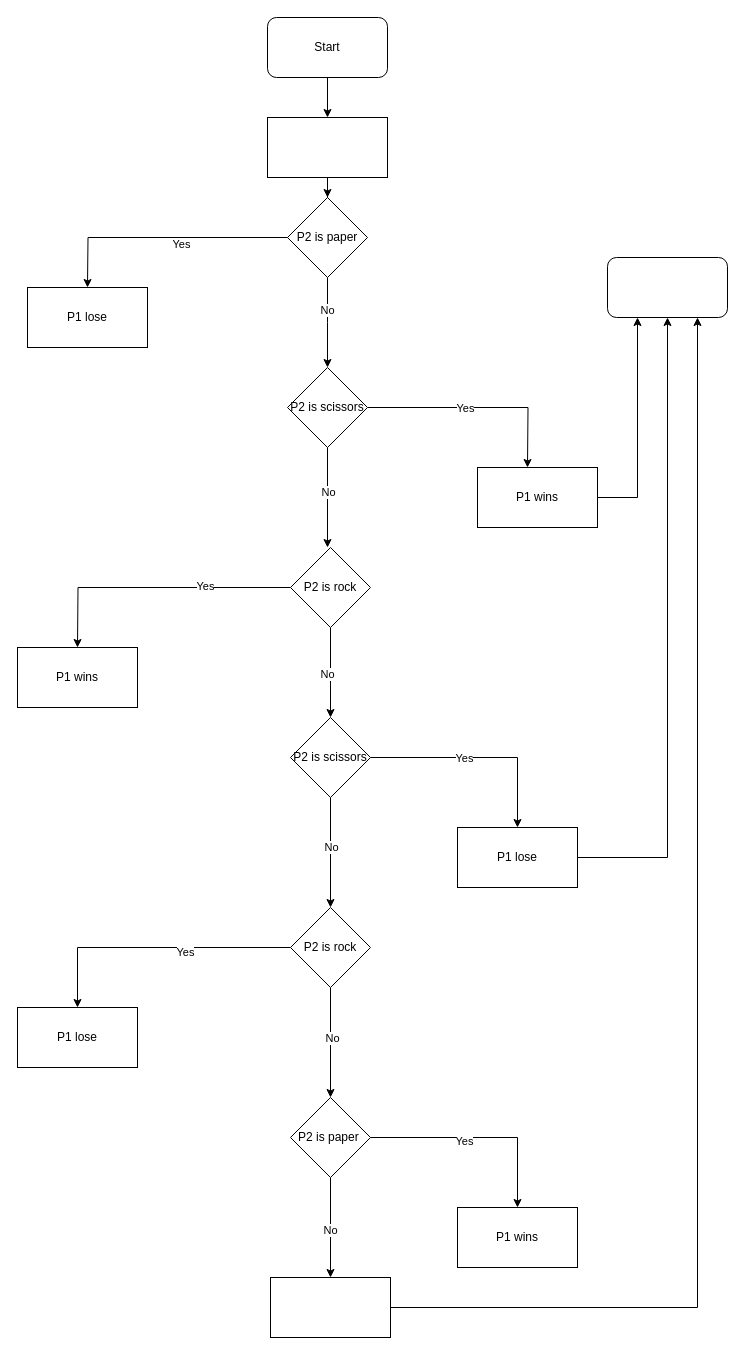
Some shapes in this 745 by 1355 pixel diagram are drawn without their labels. The shapes that lost their labels are listed below. From the top down, each one's box as (x1, y1, x2, y2) in pixels, then its label:
(266, 116, 388, 178): P1, P2
(606, 256, 728, 318): End
(270, 1276, 390, 1338): Tie
